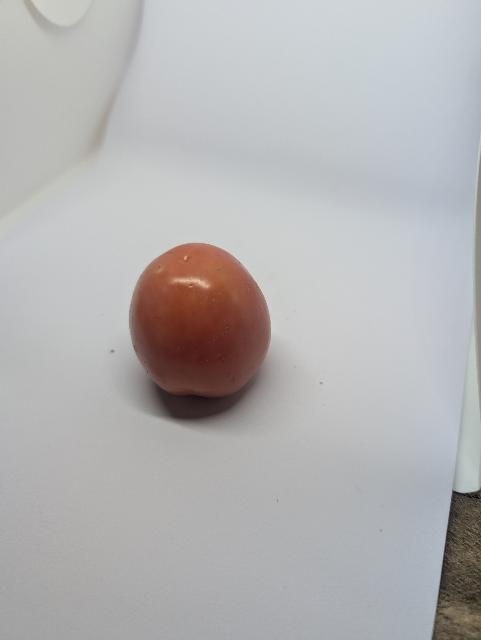red: (117, 232, 278, 418)
